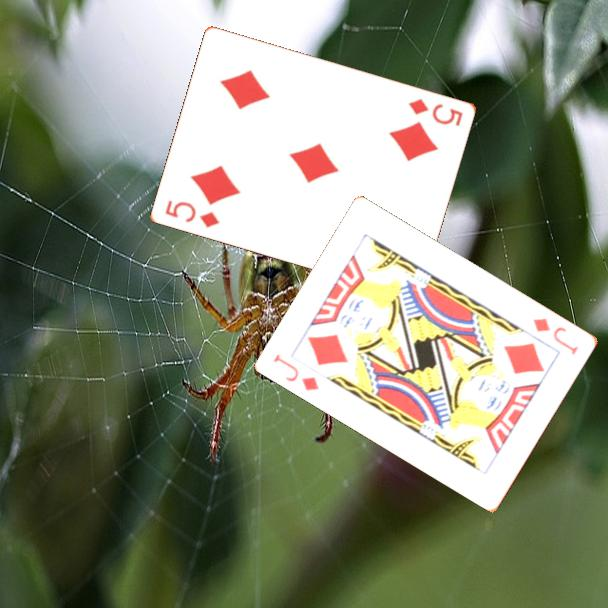d05: (405, 95, 466, 129), (162, 196, 223, 230)
d11: (530, 314, 582, 358), (270, 351, 323, 394)
